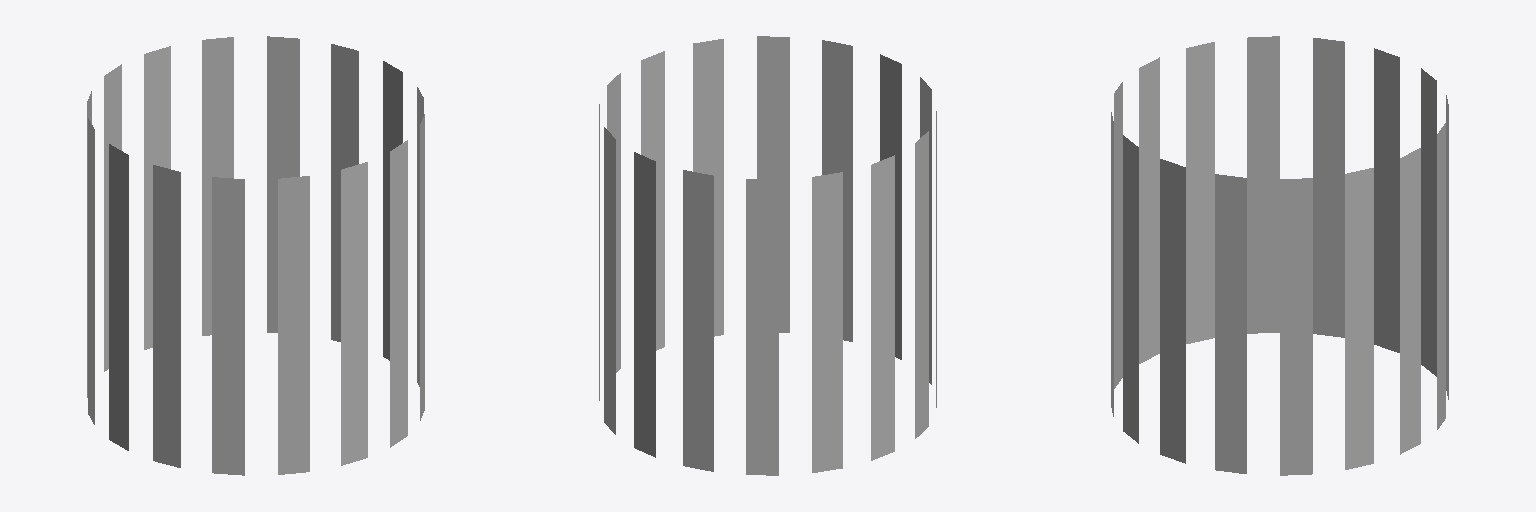
File: obj_dollarcube2.obj
3 renders of one model, left to right at view 1: azimuth 30°, elevation 25°; view 2: azimuth 150°, elevation 25°; view 3: azimuth 270°, elevation 25°, orthographic.
Parts seen in each view (by area): view 1: Cylinder_Cylinder.002; view 2: Cylinder_Cylinder.002; view 3: Cylinder_Cylinder.002.
Part boxes in pixels (x1,y1,x2,y2): Cylinder_Cylinder.002: (87, 36, 424, 475); Cylinder_Cylinder.002: (599, 36, 936, 475); Cylinder_Cylinder.002: (1111, 36, 1448, 475).
Size of the model in its own units: 9.49 by 9.16 by 9.49.